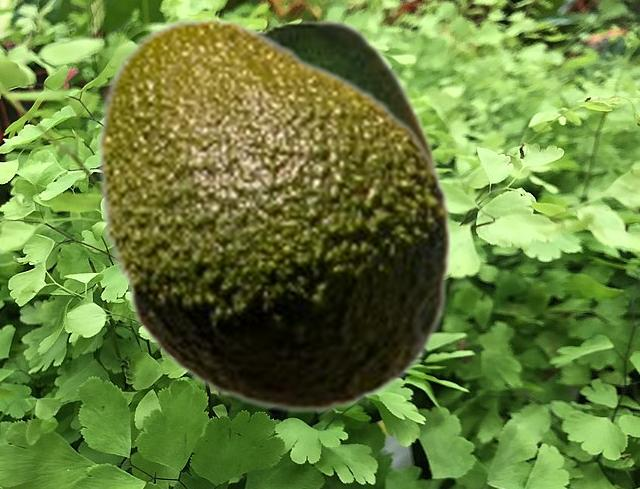avocado: (95, 16, 453, 414), (254, 18, 441, 171)
